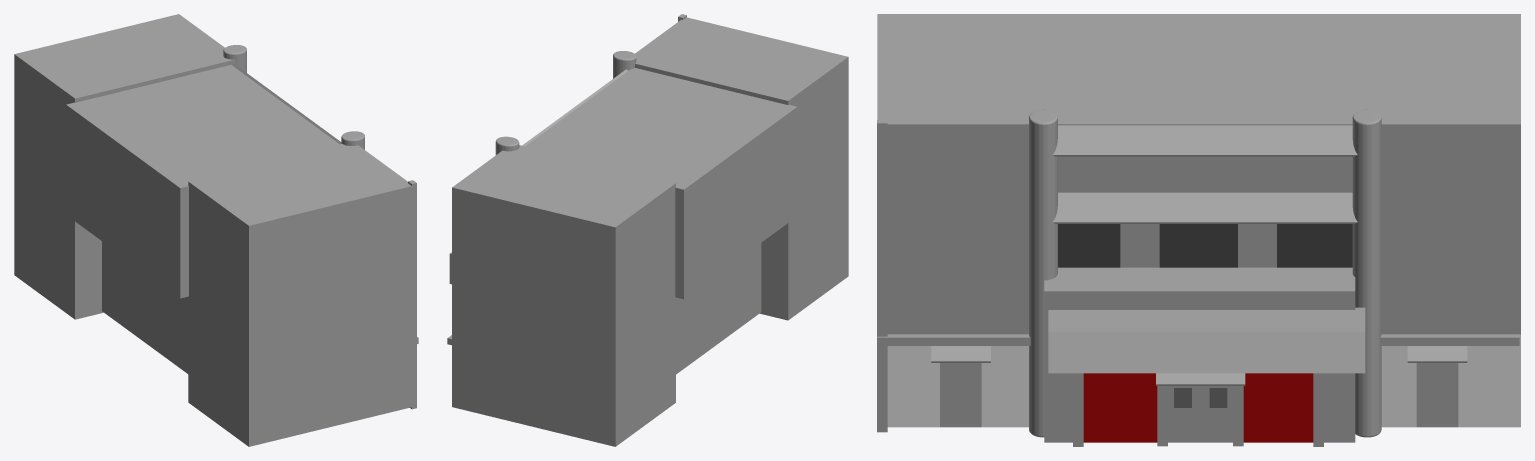
Rendered from theaterfinal.fbx.
3 renders of one model, left to right at view 1: azimuth 30°, elevation 25°; view 2: azimuth 150°, elevation 25°; view 3: azimuth 270°, elevation 25°, orthographic. The views are drawn at different scales.
Parts seen in each view (by area): view 1: pCube3, pCube5, pCube2, pCube1, pCube19, pCylinder2, pCube7; view 2: pCube2, pCube5, pCube3, pCube1, pCylinder1, pCube7; view 3: pCube3, pCube5, pCube2, pCube1, pCube4, pCube6, pCube7, pCube25, pCylinder2, pCylinder1, pCube19, pCube21 (+10 smaller).
Part boxes in pixels (box(x1,y1,x2,y2)): pCube3: box(188, 144, 411, 446); pCube5: box(66, 65, 339, 298); pCube2: box(14, 14, 235, 319); pCube1: box(102, 241, 188, 373); pCube19: box(408, 180, 416, 409); pCylinder2: box(223, 45, 246, 72); pCube7: box(232, 64, 341, 144); pCube2: box(452, 145, 675, 446); pCube5: box(525, 68, 797, 299); pCube3: box(635, 17, 848, 320); pCube1: box(676, 243, 761, 374); pCylinder1: box(613, 51, 636, 78); pCube7: box(522, 69, 628, 146); pCube3: box(877, 14, 1043, 427); pCube5: box(1044, 14, 1354, 267); pCube2: box(1354, 14, 1520, 427); pCube1: box(1044, 224, 1355, 442); pCube4: box(1048, 307, 1365, 373); pCube6: box(1053, 192, 1357, 223); pCube7: box(1053, 125, 1357, 156); pCube25: box(1058, 224, 1352, 267); pCylinder2: box(1352, 109, 1381, 437); pCylinder1: box(1029, 109, 1057, 437); pCube19: box(877, 120, 887, 432); pCube21: box(877, 334, 1030, 345).
Size of the model in its own units: 23.26 by 21.95 by 40.72.
